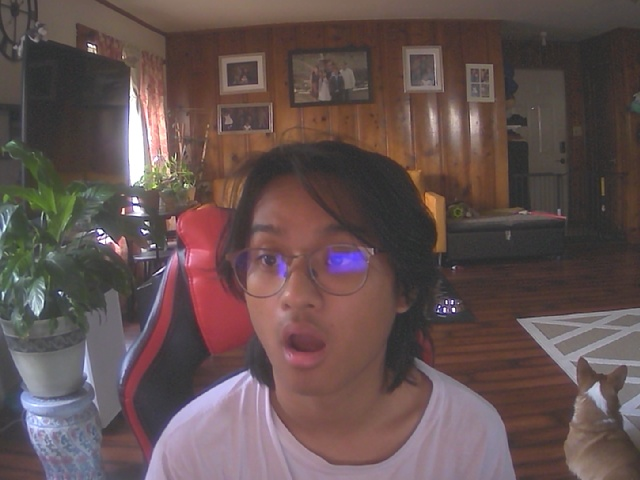fear: (222, 147, 430, 397)
